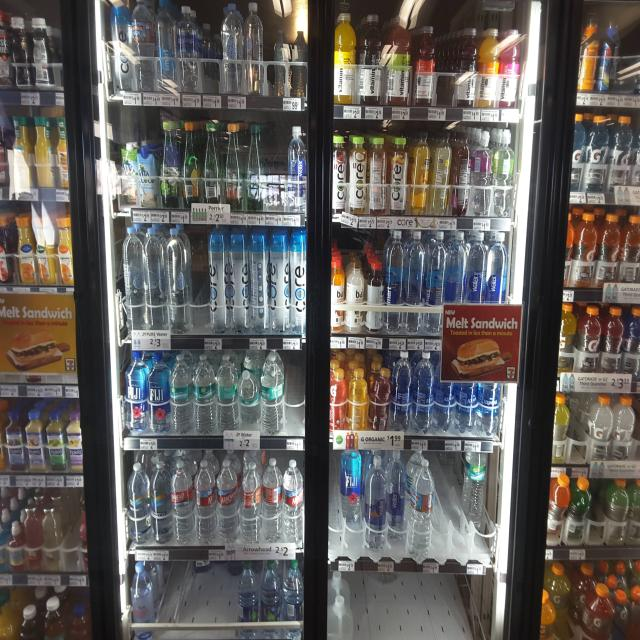empty: (349, 573, 484, 640), (254, 126, 292, 230), (182, 228, 214, 338), (284, 347, 309, 445), (158, 556, 181, 640)
